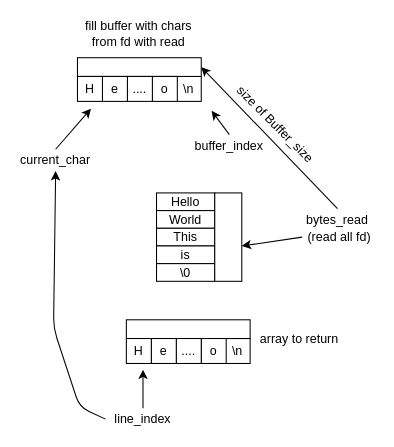
Image size: 394x447. Some labels were removed from this diagram. The centre of each missing label's shape, as x and y in pixels:
buffer: the point at 138,66
fd: the point at 228,236
Line: the point at 187,329
